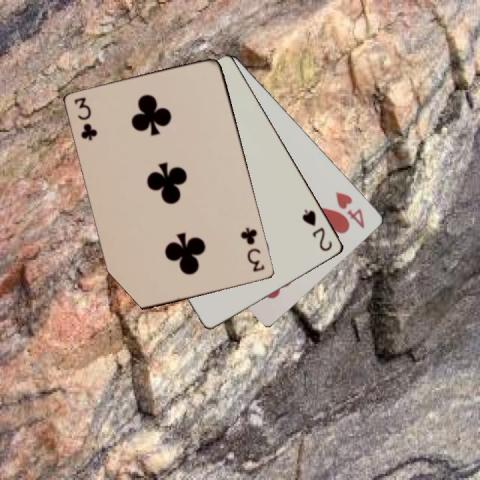2s: (299, 206, 335, 253)
3c: (237, 225, 267, 273), (71, 94, 98, 142)
4h: (332, 189, 366, 230)
